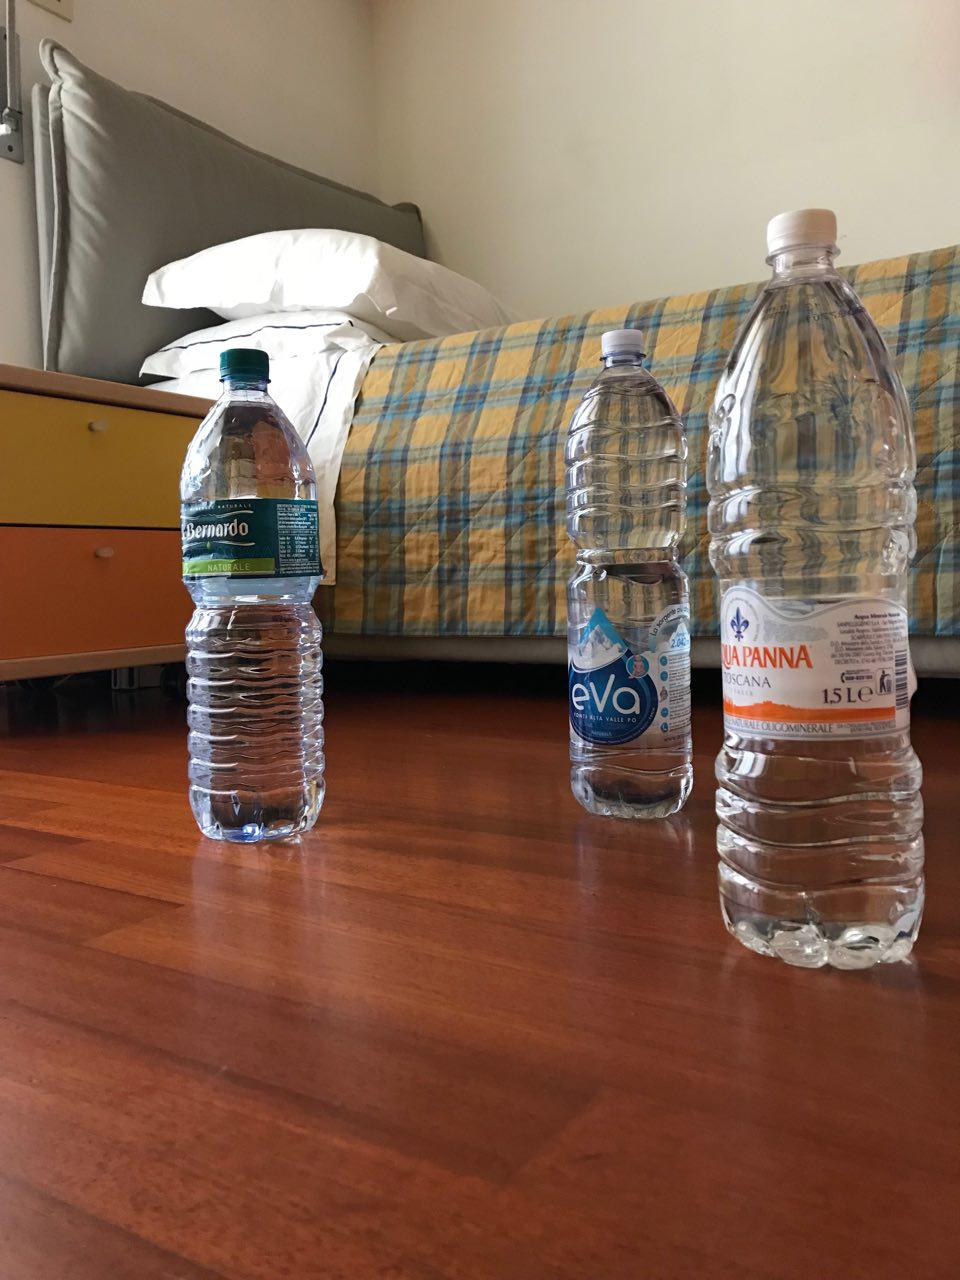san_bernardo: (178, 348, 328, 845)
